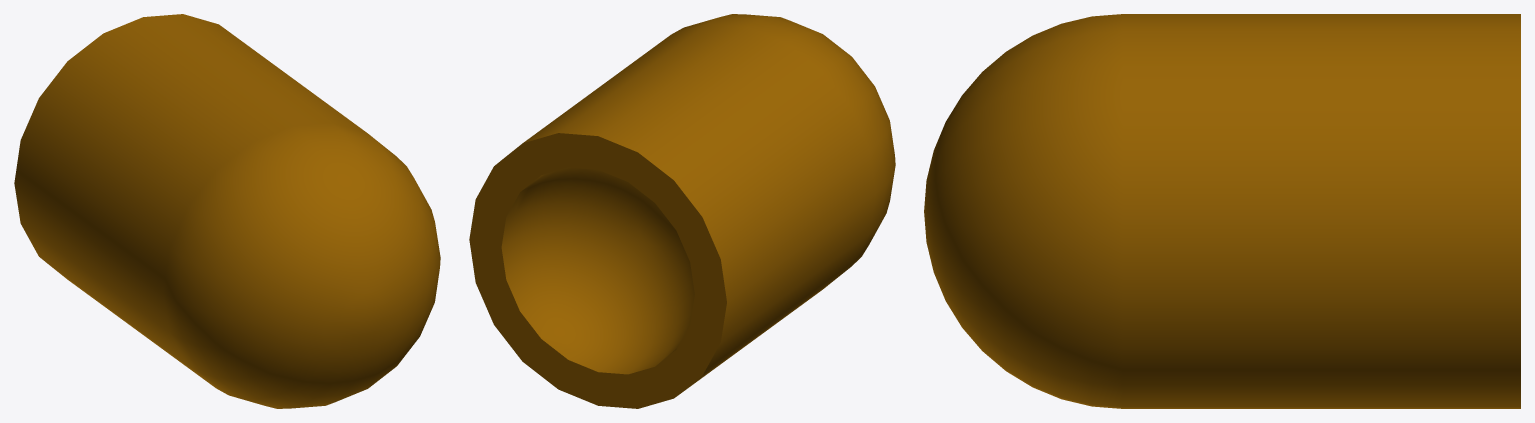
Rendered from prop_bullet_justin.fbx.
The picture shows the model from 3 angles, left to right: view 1: azimuth 30°, elevation 25°; view 2: azimuth 150°, elevation 25°; view 3: azimuth 270°, elevation 25°; orthographic projection. The views are drawn at different scales.
Parts seen in each view (by area): view 1: bullet_justin; view 2: bullet_justin; view 3: bullet_justin.
Boxes of the visible parts, x1=… form: bullet_justin: x1=14, y1=14, x2=440, y2=408; bullet_justin: x1=469, y1=14, x2=895, y2=408; bullet_justin: x1=924, y1=14, x2=1520, y2=408.
Size of the model in its own units: 2 by 2 by 3.
